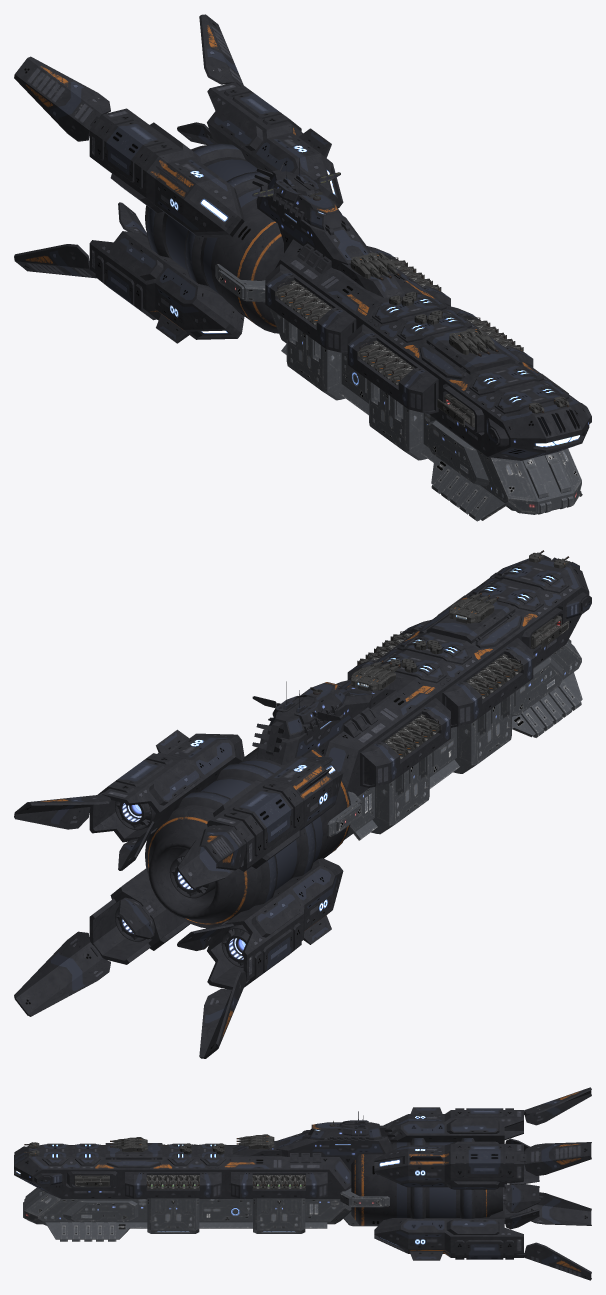
The picture shows the model from 3 angles, top to bottom: view 1: azimuth 30°, elevation 25°; view 2: azimuth 150°, elevation 25°; view 3: azimuth 270°, elevation 25°; orthographic projection. The views are drawn at different scales.
Parts seen in each view (by area): view 1: ScifiCruiserClaymoreHull_002; view 2: ScifiCruiserClaymoreHull_002; view 3: ScifiCruiserClaymoreHull_002.
Boxes of the visible parts, bbox=[...] form: ScifiCruiserClaymoreHull_002: bbox=[14, 14, 591, 521]; ScifiCruiserClaymoreHull_002: bbox=[14, 550, 591, 1058]; ScifiCruiserClaymoreHull_002: bbox=[14, 1087, 591, 1280].
Bounding box in the file's own units: 215 × 227 × 821.
2 materials, 2 textured.
